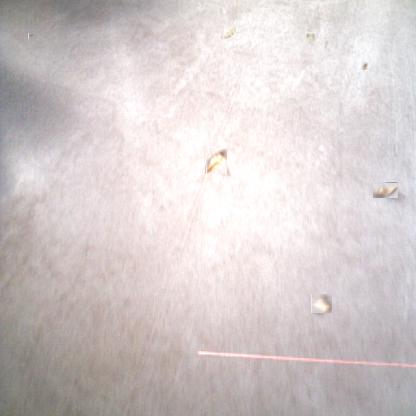dirty: (205, 148, 227, 174), (312, 293, 332, 314), (372, 182, 398, 198), (224, 26, 236, 40), (306, 32, 316, 43), (362, 62, 370, 71)
mark: (323, 38, 330, 50), (29, 33, 35, 40), (220, 34, 224, 42)
